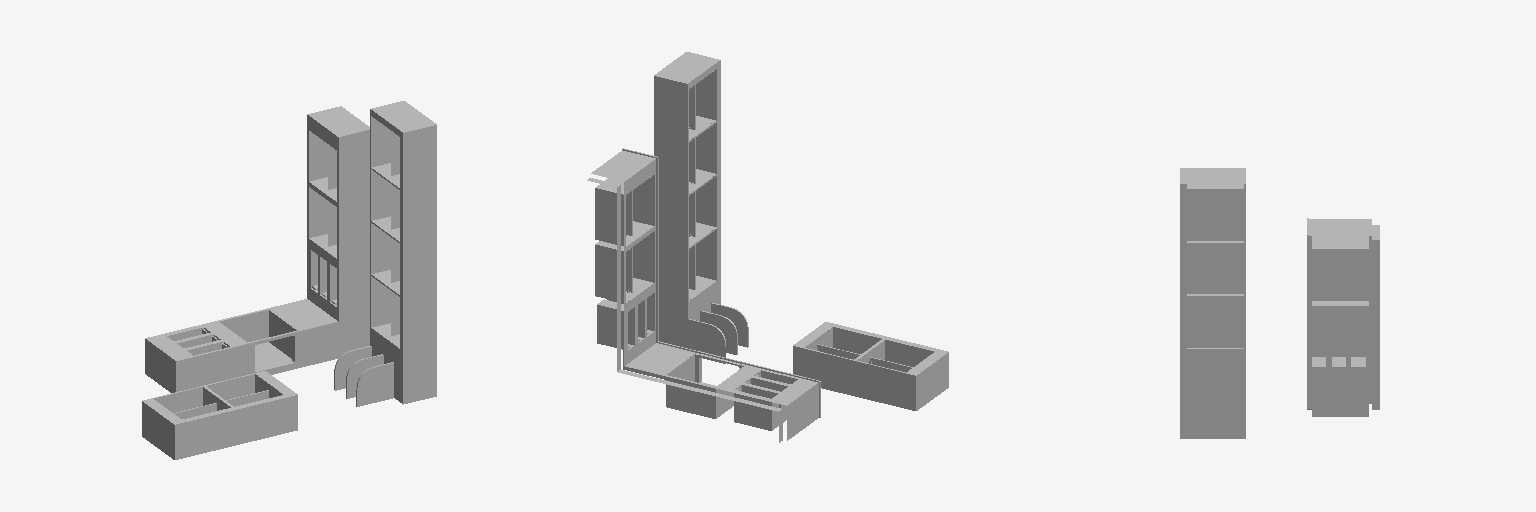
Rendered from am_kitchen01.obj.
The picture shows the model from 3 angles: view 1: azimuth 30°, elevation 25°; view 2: azimuth 150°, elevation 25°; view 3: azimuth 270°, elevation 25°; orthographic projection.
Visible parts, largest first — view 1: am_kitchen01; view 2: am_kitchen01; view 3: am_kitchen01.
Part boxes in pixels (bbox=[...]): am_kitchen01: bbox=[142, 101, 436, 459]; am_kitchen01: bbox=[587, 52, 948, 442]; am_kitchen01: bbox=[1180, 168, 1379, 438].
Bounding box in the file's own units: 170 × 168 × 112.